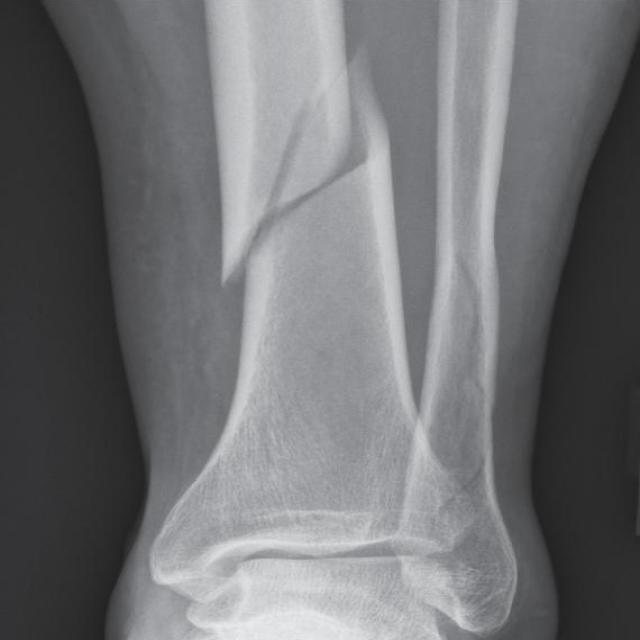Impacted: (190, 36, 421, 300)
